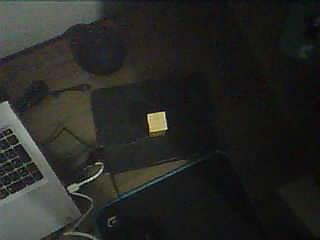lego: (145, 111, 168, 137)
